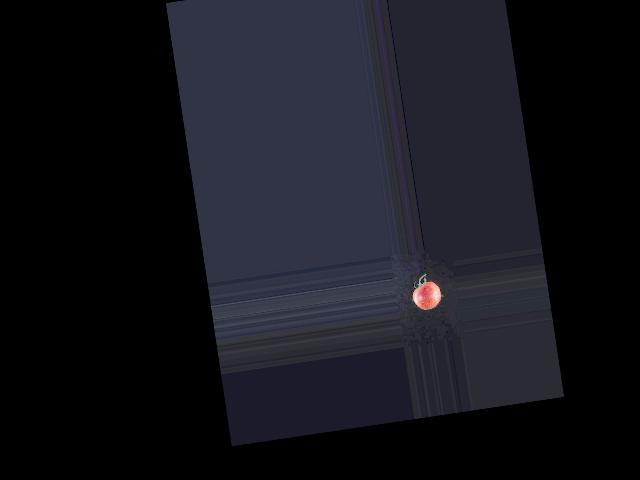tomato: (411, 279, 443, 311)
